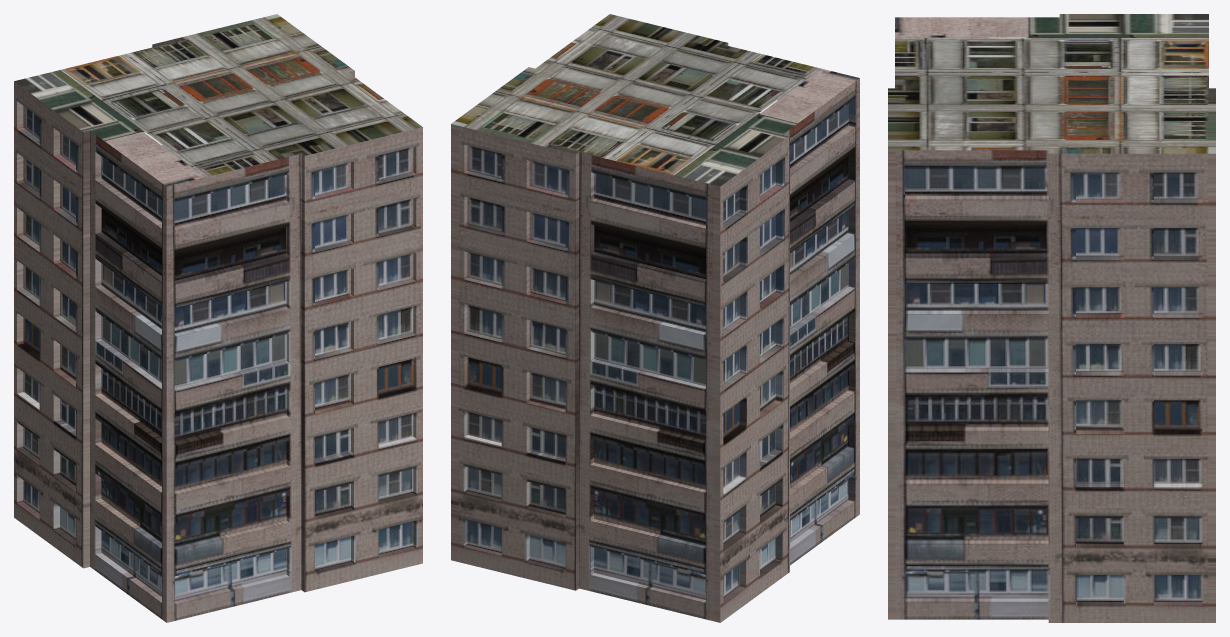
Rendered from building1.fbx.
3 renders of one model, left to right at view 1: azimuth 30°, elevation 25°; view 2: azimuth 150°, elevation 25°; view 3: azimuth 270°, elevation 25°, orthographic. The views are drawn at different scales.
Visible parts, largest first — view 1: building1; view 2: building1; view 3: building1.
Boxes of the visible parts, <box> form: building1: <box>14,14,422,622</box>; building1: <box>451,14,859,622</box>; building1: <box>888,14,1215,622</box>.
Size of the model in its own units: 25.51 by 25.28 by 39.94.
1 material, 1 textured.
